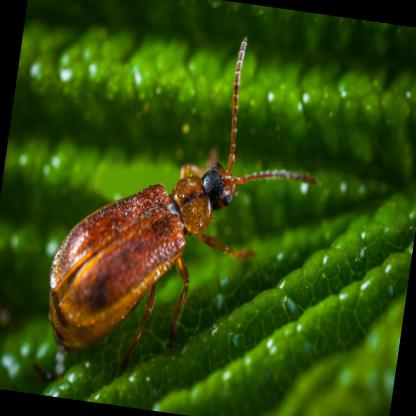blister beetle: (46, 37, 317, 357)
